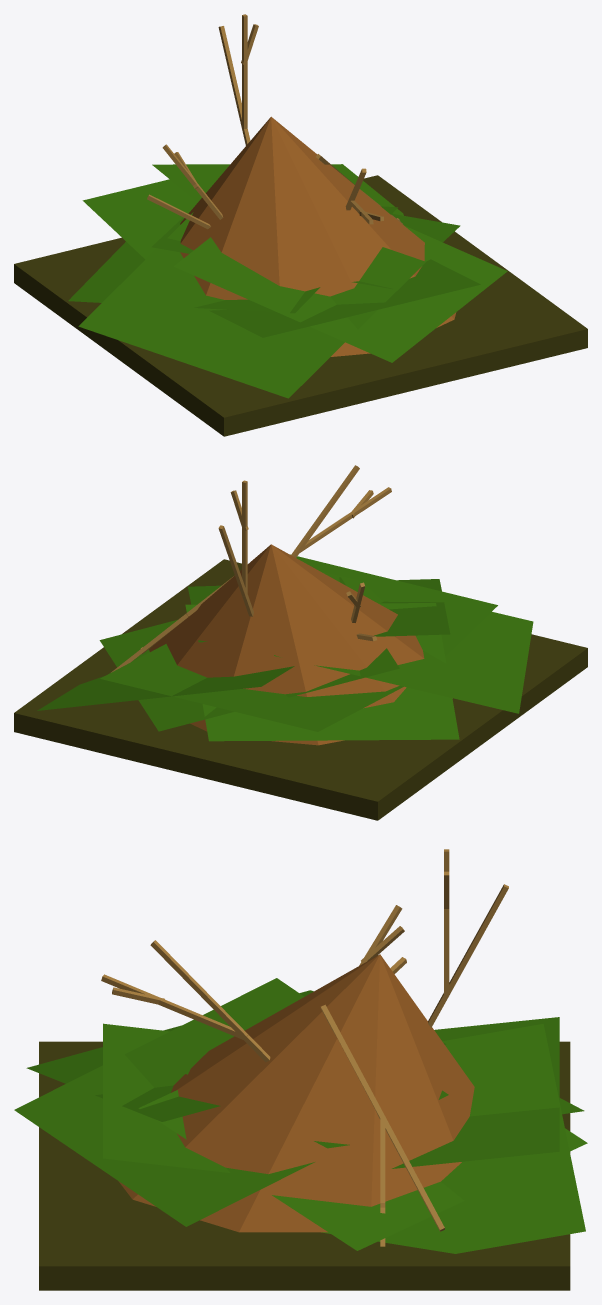
The model's file is black_c_n.glb.
The picture shows the model from 3 angles, top to bottom: view 1: azimuth 30°, elevation 25°; view 2: azimuth 150°, elevation 25°; view 3: azimuth 270°, elevation 25°; orthographic projection. The views are drawn at different scales.
Parts seen in each view (by area): view 1: Cone; view 2: Cone; view 3: Cone.
Part boxes in pixels (bbox=[...]): Cone: bbox=[14, 14, 587, 436]; Cone: bbox=[14, 465, 587, 820]; Cone: bbox=[14, 849, 587, 1290].
Bounding box in the file's own units: 2.21 × 1.36 × 2.16.
